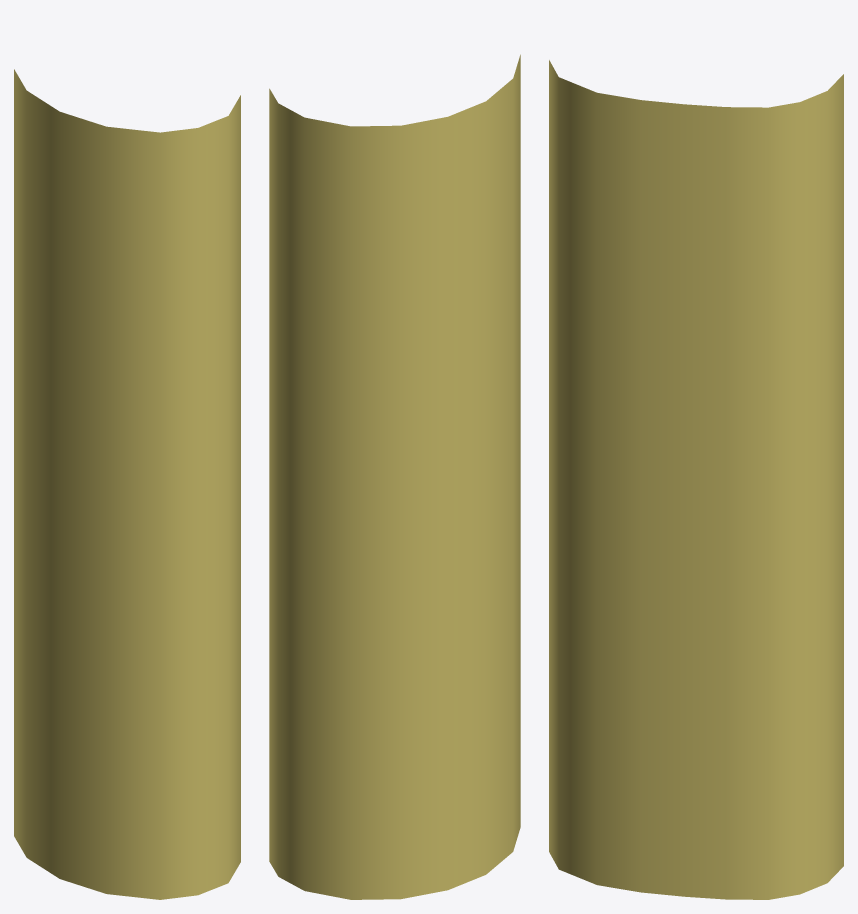
Rendered from spinal-reticular-process.glb.
The picture shows the model from 3 angles, left to right: view 1: azimuth 30°, elevation 25°; view 2: azimuth 150°, elevation 25°; view 3: azimuth 270°, elevation 25°; orthographic projection. The views are drawn at different scales.
Parts seen in each view (by area): view 1: Spinal reticular process; view 2: Spinal reticular process; view 3: Spinal reticular process.
Boxes of the visible parts, left/top/right/bottom form: Spinal reticular process: left=14, top=69, right=240, bottom=899; Spinal reticular process: left=269, top=54, right=520, bottom=899; Spinal reticular process: left=549, top=60, right=843, bottom=899.
Bounding box in the file's own units: 0.00127 × 0.005 × 0.00169.
